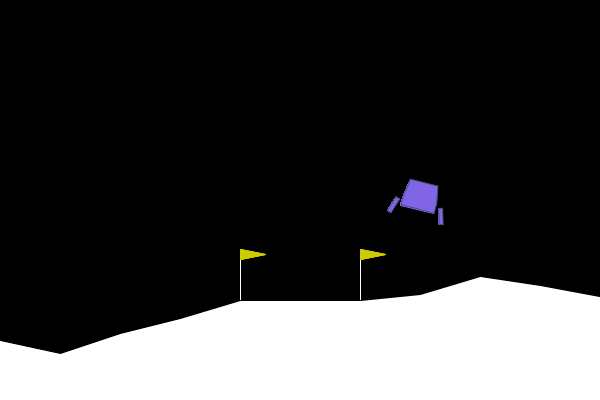lander: (385, 174, 453, 227)
